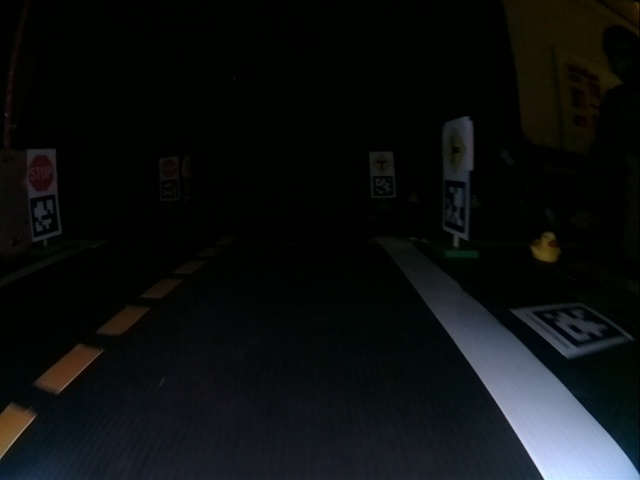Duckie: (532, 232, 559, 261)
Intersection sign: (443, 124, 466, 175), (371, 155, 389, 174)
QR code: (522, 304, 630, 354), (443, 178, 467, 234), (30, 194, 57, 238), (372, 176, 393, 196), (162, 180, 179, 199)
Stop sign: (28, 152, 55, 193), (161, 160, 178, 177)
